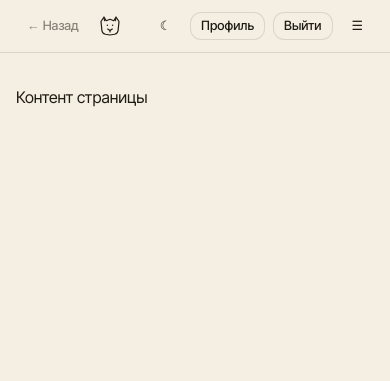
Layout › на мобиле бургер раскрывает навигацию, у гостя бургера нет
Click the button named "Меню". click: (357, 26)
box: [340,12,374,40]
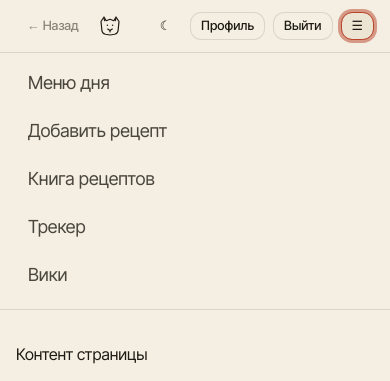
Expected: the link "Книга рецептов" is shown
Expected: the link "Добавить рецепт" is shown, [28,120,167,141]
Expected: the link "Трекер" is shown, [28,216,86,237]
клик по ссылке закрывает панель
Click the link "Книга рецептов". click: (91, 178)
box: [28,168,155,189]
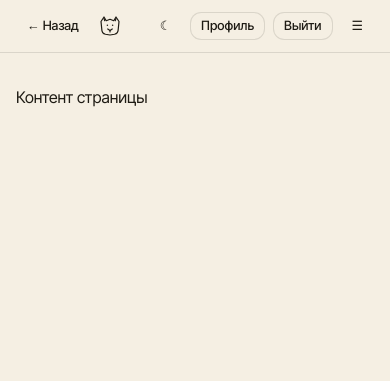
Expected: the element with test id "mobile-nav" is gone
